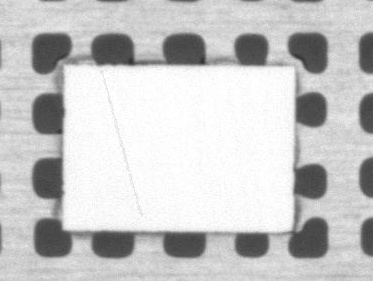DIE_CRACK: (135, 54, 187, 162)
